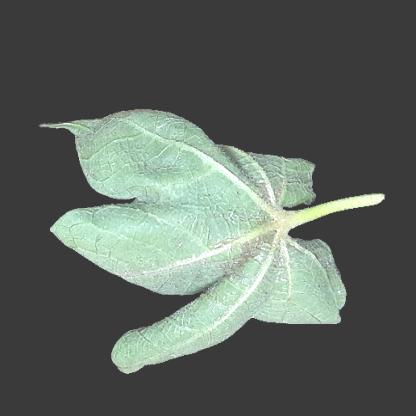curl_stage2: (136, 170, 250, 238), (221, 255, 321, 317), (100, 118, 180, 191), (236, 158, 306, 210), (79, 232, 161, 266), (173, 306, 220, 356)
